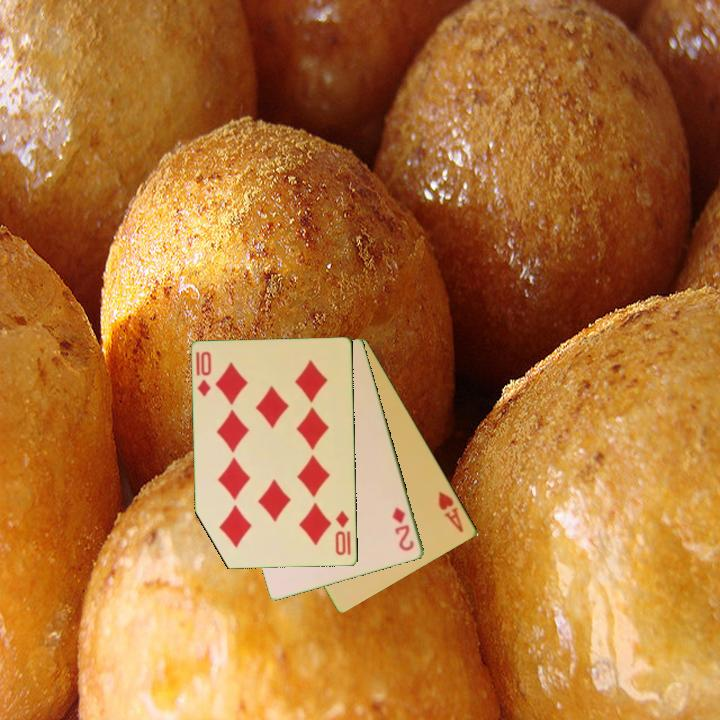10d: (193, 348, 215, 400), (332, 507, 352, 558)
2d: (389, 504, 417, 554)
Ah: (435, 488, 467, 535)
